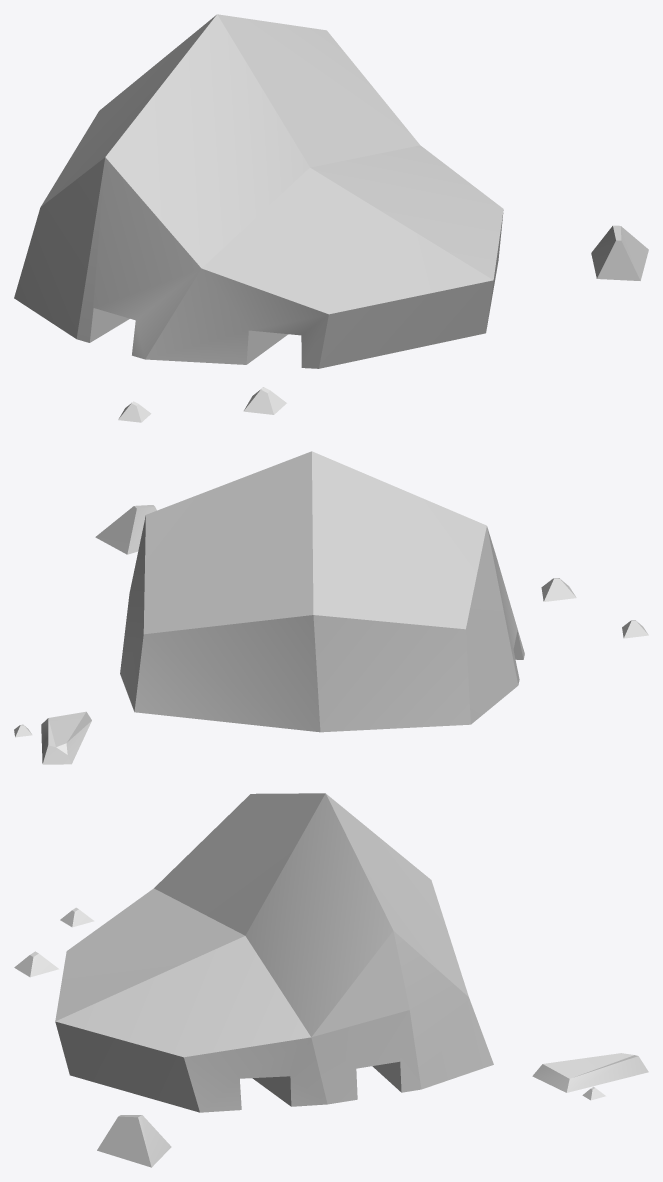
Rendered from NeutralStone4.fbx.
3 views of the same model, one above another, from view 1: azimuth 30°, elevation 25°; view 2: azimuth 150°, elevation 25°; view 3: azimuth 270°, elevation 25° (orthographic). The views are drawn at different scales.
Parts seen in each view (by area): view 1: NeutralStone4_LOD0; view 2: NeutralStone4_LOD0; view 3: NeutralStone4_LOD0.
Part boxes in pixels (x1,y1,x2,y2): NeutralStone4_LOD0: [14, 14, 648, 422]; NeutralStone4_LOD0: [14, 451, 648, 764]; NeutralStone4_LOD0: [14, 793, 648, 1167].
Size of what is drawn, in the model's own units: 339 by 140 by 357.
